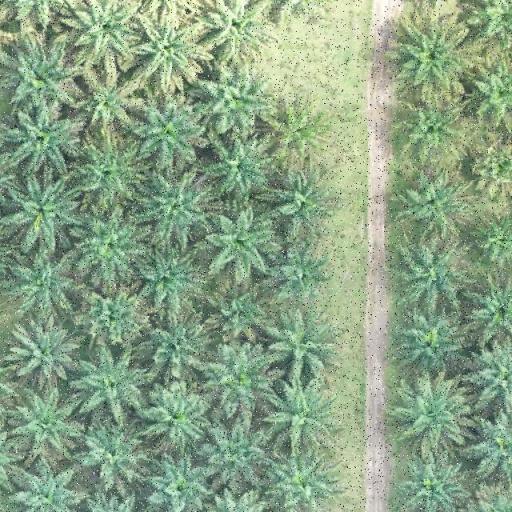Ganoderma: (278, 111, 322, 153)
